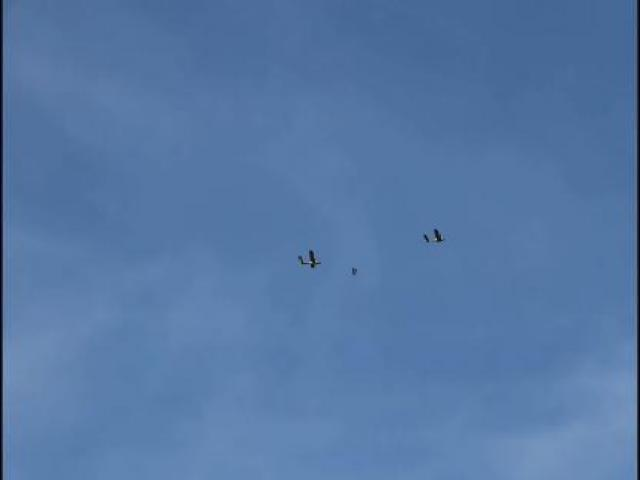uav: (295, 247, 320, 270), (423, 228, 446, 244)
